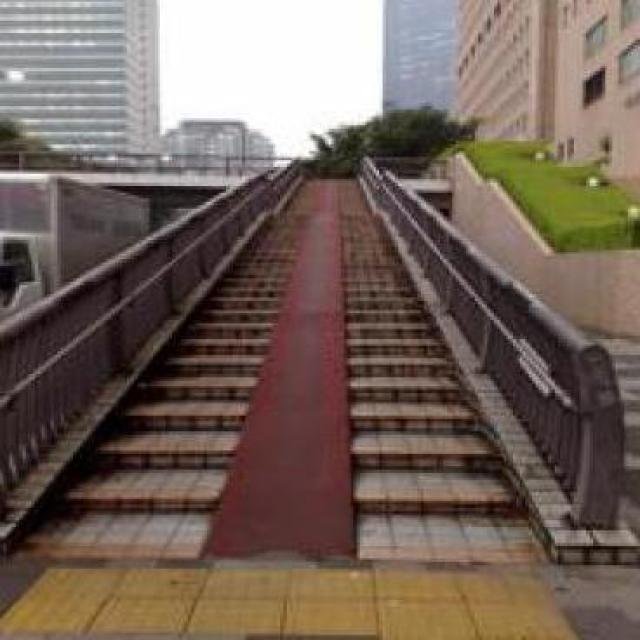Stairs: (4, 141, 633, 548)
